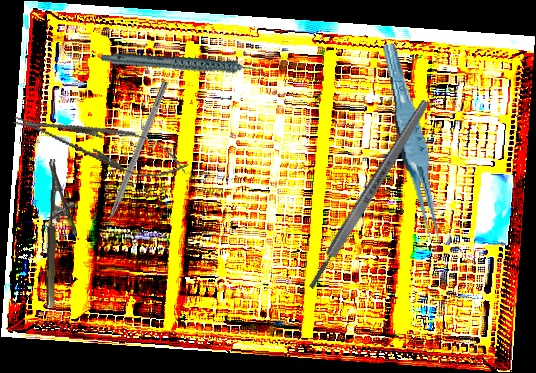Handpiece: (100, 20, 267, 111)
Hook Surgical: (96, 80, 170, 243)
Needle Holder: (6, 97, 194, 190), (44, 158, 80, 309)
Scalpel Handle: (304, 98, 433, 291)
Tissue Forceps: (380, 40, 444, 251)
